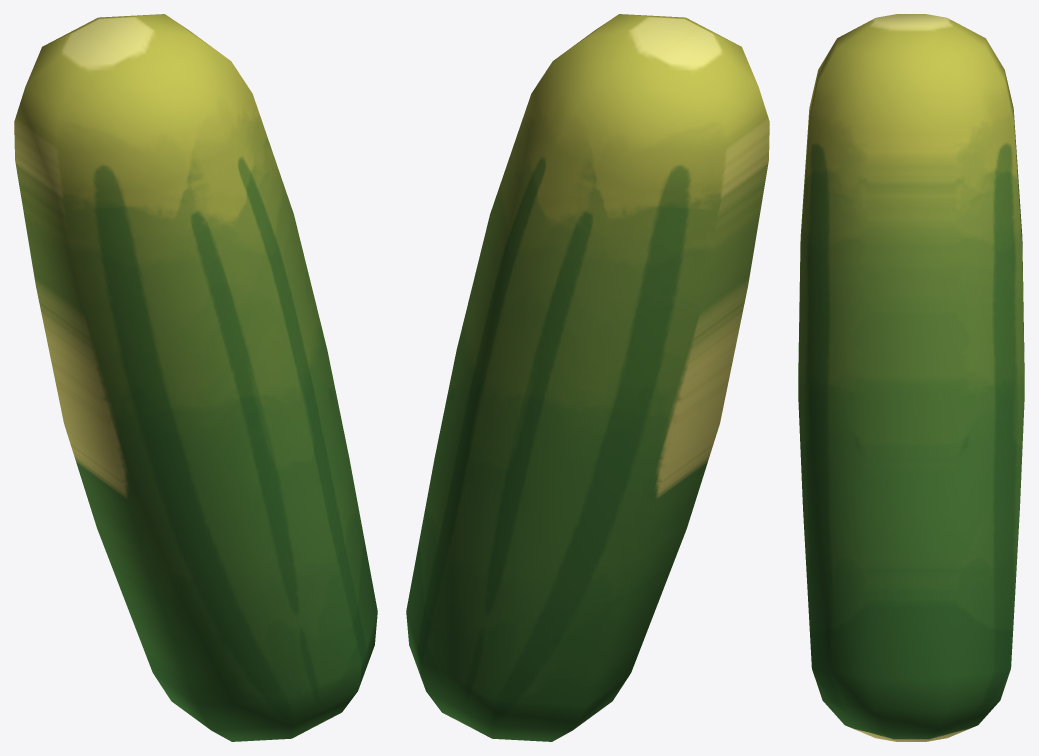
3 renders of one model, left to right at view 1: azimuth 30°, elevation 25°; view 2: azimuth 150°, elevation 25°; view 3: azimuth 270°, elevation 25°, orthographic. The views are drawn at different scales.
Visible parts, largest first — view 1: Cucumber; view 2: Cucumber; view 3: Cucumber.
Part boxes in pixels (<box>): Cucumber: <box>14,14,377,741</box>; Cucumber: <box>406,14,769,741</box>; Cucumber: <box>798,14,1024,741</box>.
Bounding box in the file's own units: 0.8321 × 1.82 × 0.5712.
1 material, 1 textured.
